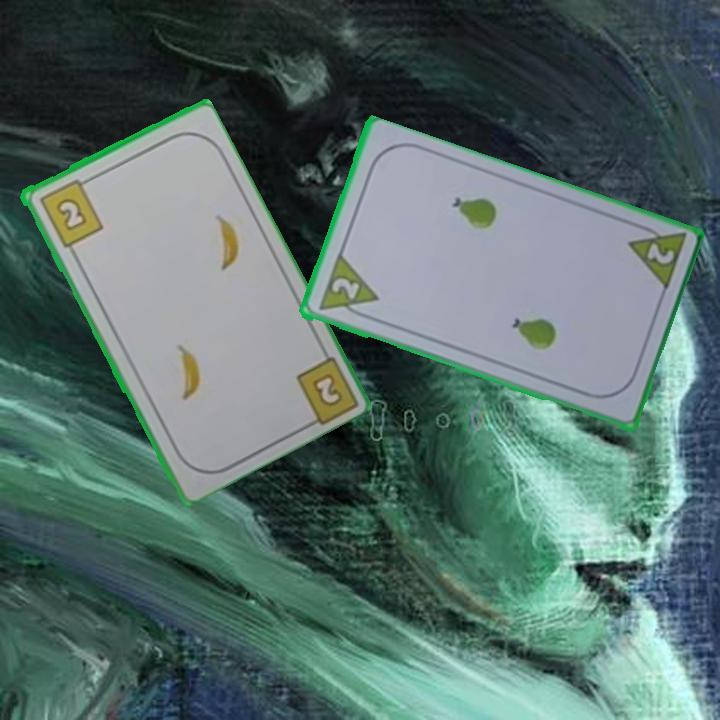2b: (35, 174, 106, 250), (308, 369, 345, 410)
2p: (622, 218, 689, 295), (327, 274, 362, 303)
